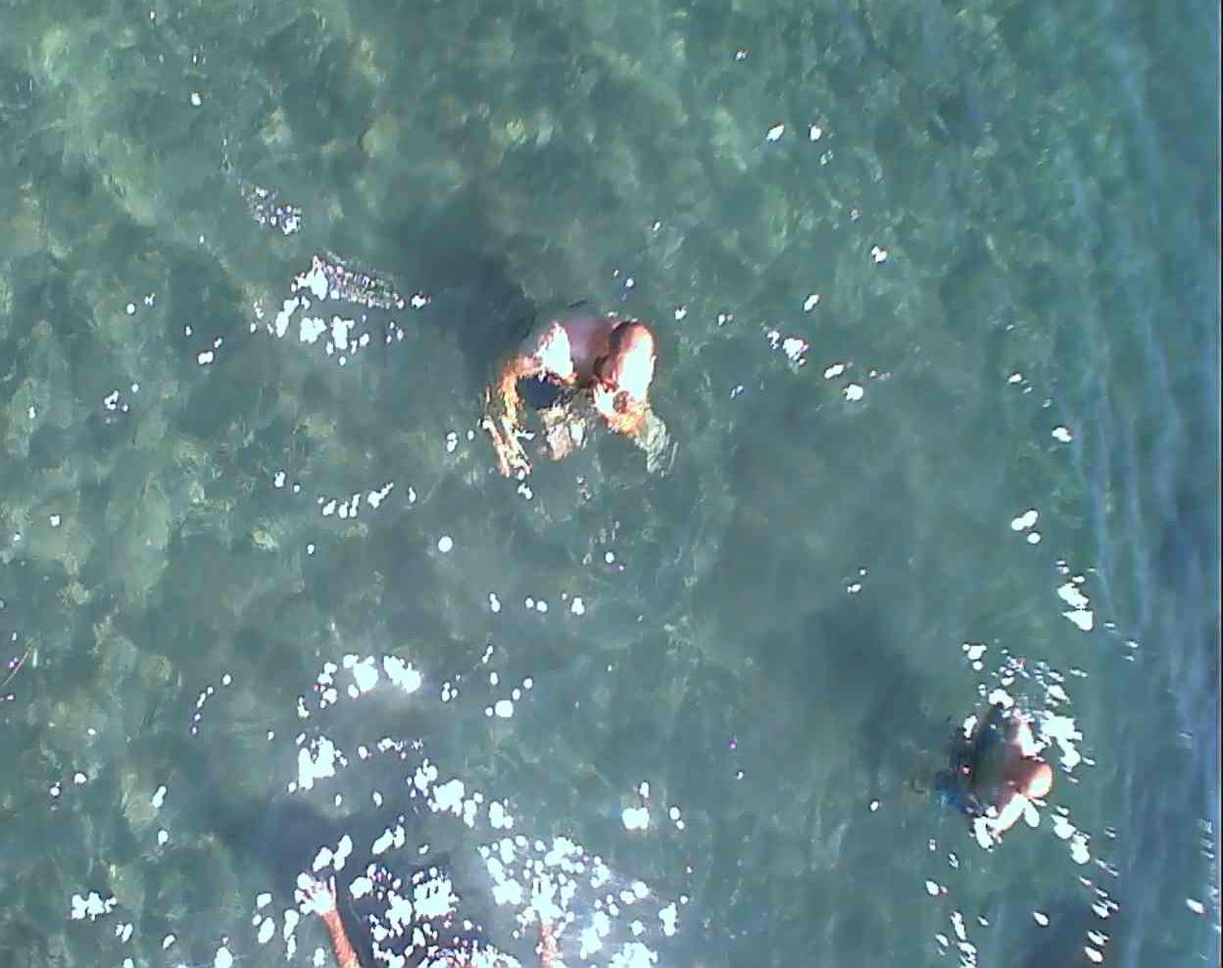human: (475, 288, 642, 489), (934, 659, 1061, 859)
